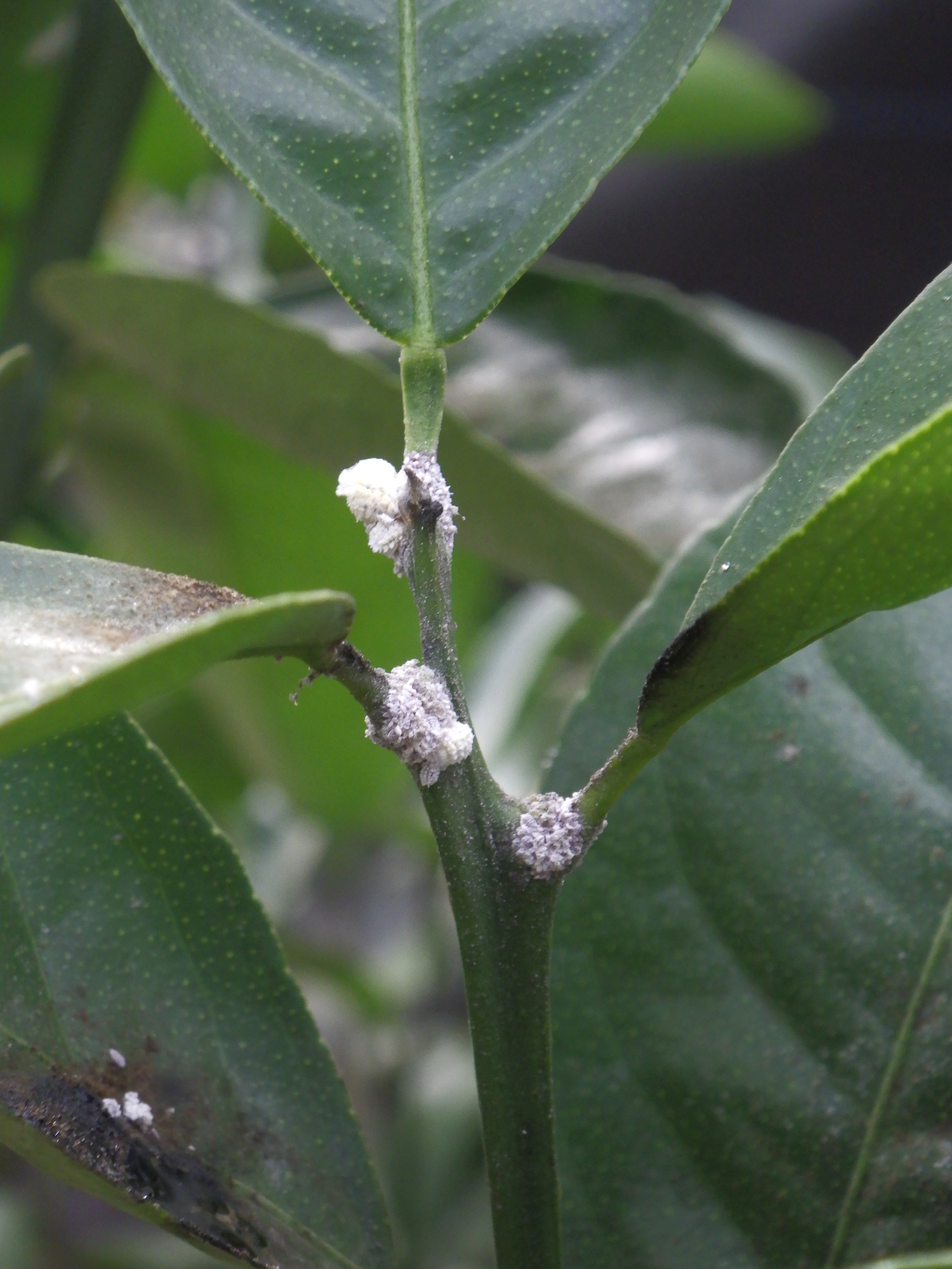Scale_Insect: (366, 660, 473, 787), (336, 458, 408, 561)
